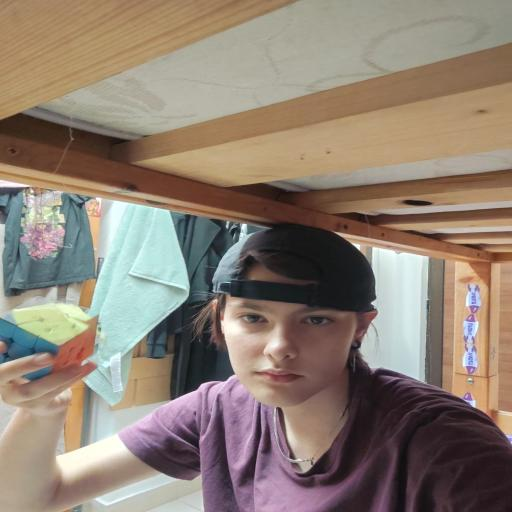Rubiks Cube: (1, 303, 91, 385)
